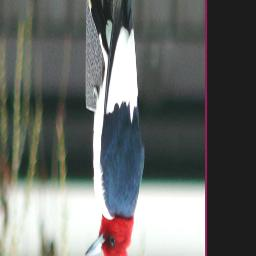Woodpecker: (84, 0, 146, 256)
